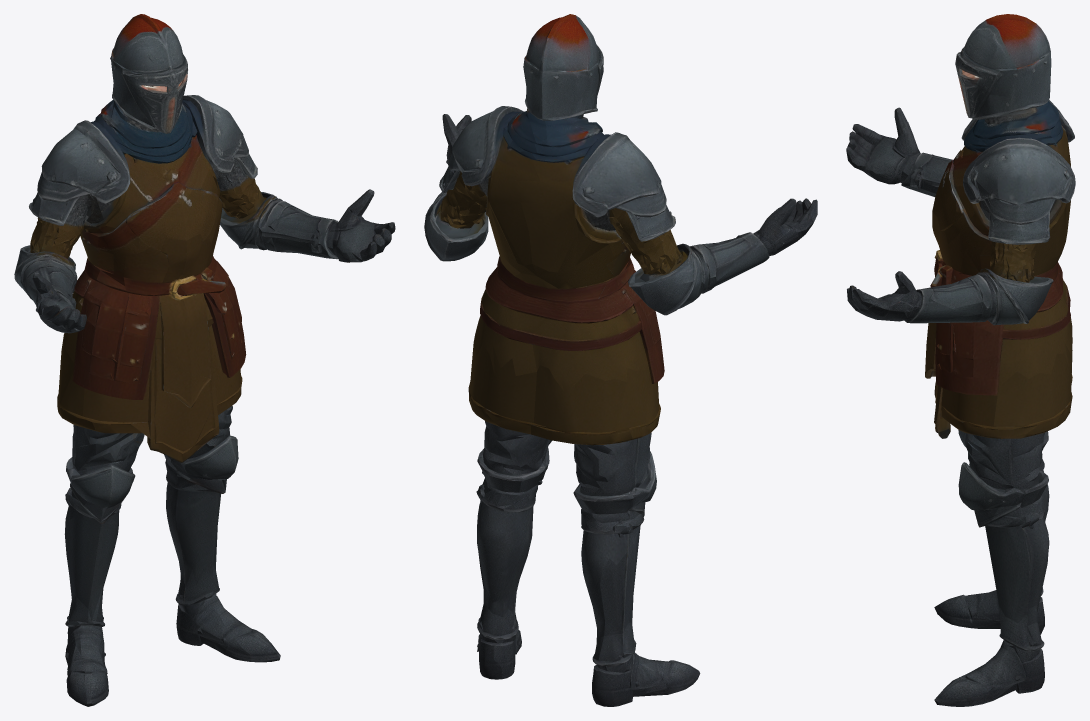
Rendered from calden.glb.
The picture shows the model from 3 angles, left to right: view 1: azimuth 30°, elevation 25°; view 2: azimuth 150°, elevation 25°; view 3: azimuth 270°, elevation 25°; orthographic projection. The views are drawn at different scales.
Size of the model in its own units: 1.08 by 1.9 by 0.6151.
1 material, 1 textured.
